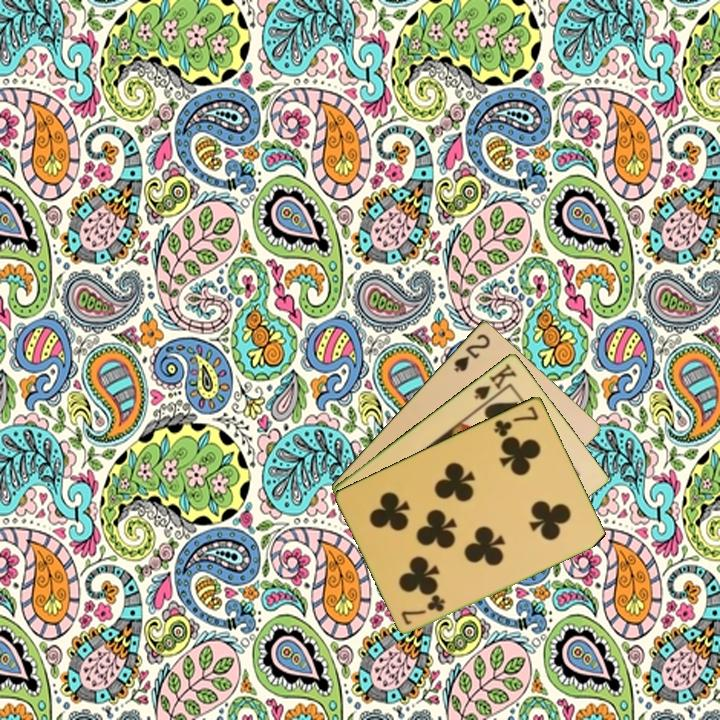2s: (450, 330, 493, 375)
7c: (490, 402, 542, 440), (398, 592, 449, 628)
Ks: (471, 359, 520, 402)
